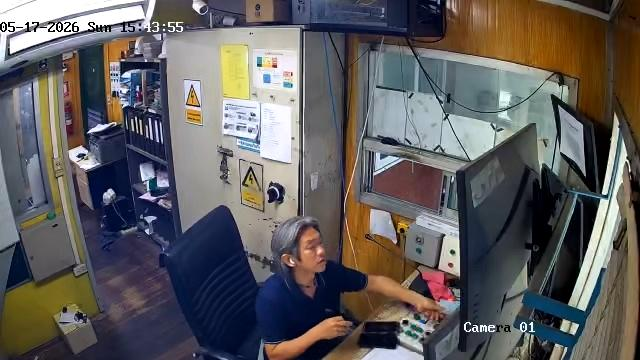Head: (272, 217, 329, 274)
People: (261, 215, 442, 360)
Phone: (359, 332, 400, 348)
